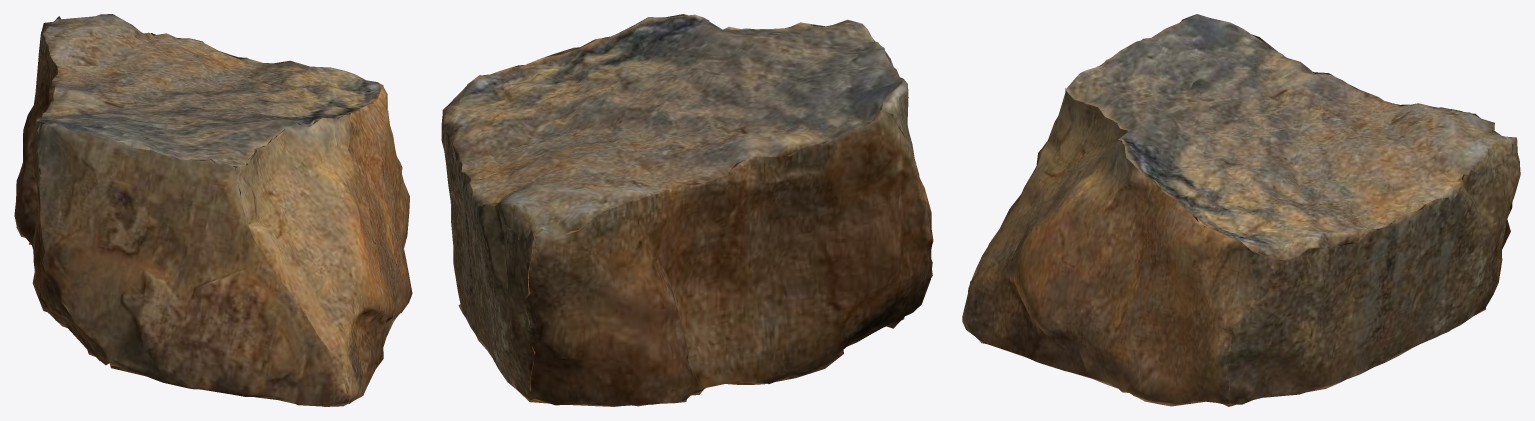
The model's file is namaqualand_boulder_03.glb.
3 renders of one model, left to right at view 1: azimuth 30°, elevation 25°; view 2: azimuth 150°, elevation 25°; view 3: azimuth 270°, elevation 25°, orthographic. The views are drawn at different scales.
Visible parts, largest first — view 1: boulder_03_LOD0; view 2: boulder_03_LOD0; view 3: boulder_03_LOD0.
Part boxes in pixels (x1,y1,x2,y2): boulder_03_LOD0: (14,14,412,406); boulder_03_LOD0: (441,14,933,406); boulder_03_LOD0: (962,14,1520,406).
Size of the model in its own units: 2.4 by 1.48 by 3.08.
Materials: 1 (1 with a texture image).
